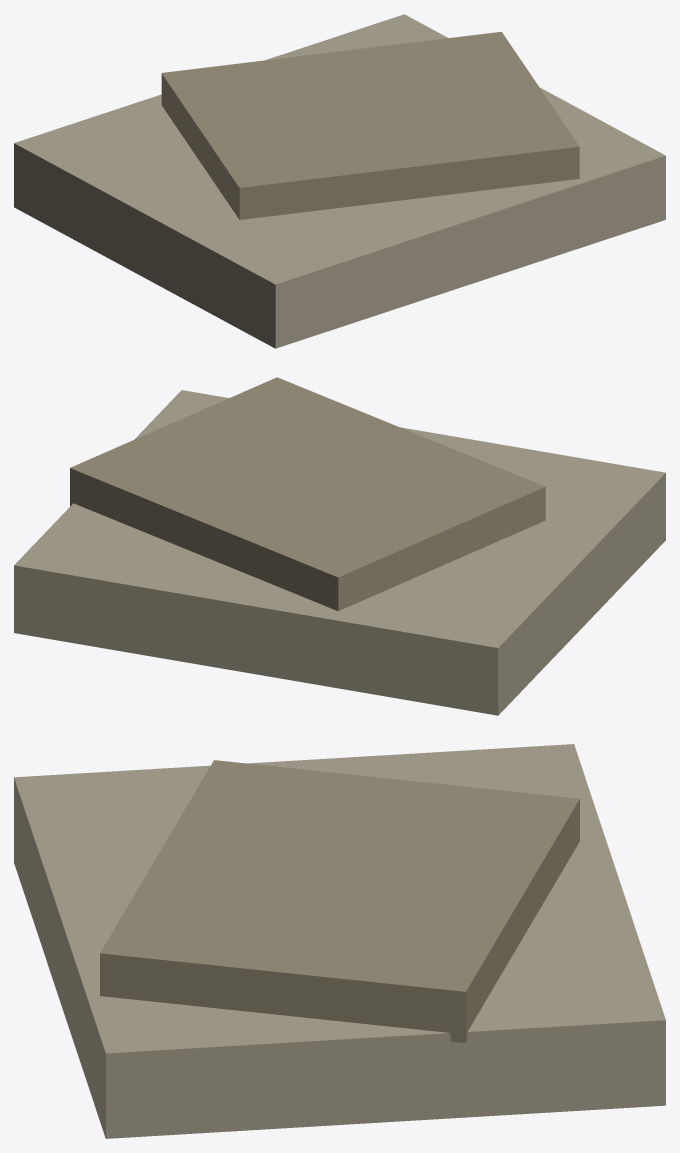
Rendered from rag.glb.
3 renders of one model, top to bottom at view 1: azimuth 30°, elevation 25°; view 2: azimuth 150°, elevation 25°; view 3: azimuth 270°, elevation 25°, orthographic. The views are drawn at different scales.
Visible parts, largest first — view 1: rag; view 2: rag; view 3: rag.
Part boxes in pixels (x1,y1,x2,y2): rag: (14, 14, 665, 348); rag: (14, 377, 665, 715); rag: (14, 744, 665, 1138).
Size of the model in its own units: 0.1553 by 0.03 by 0.1383.
